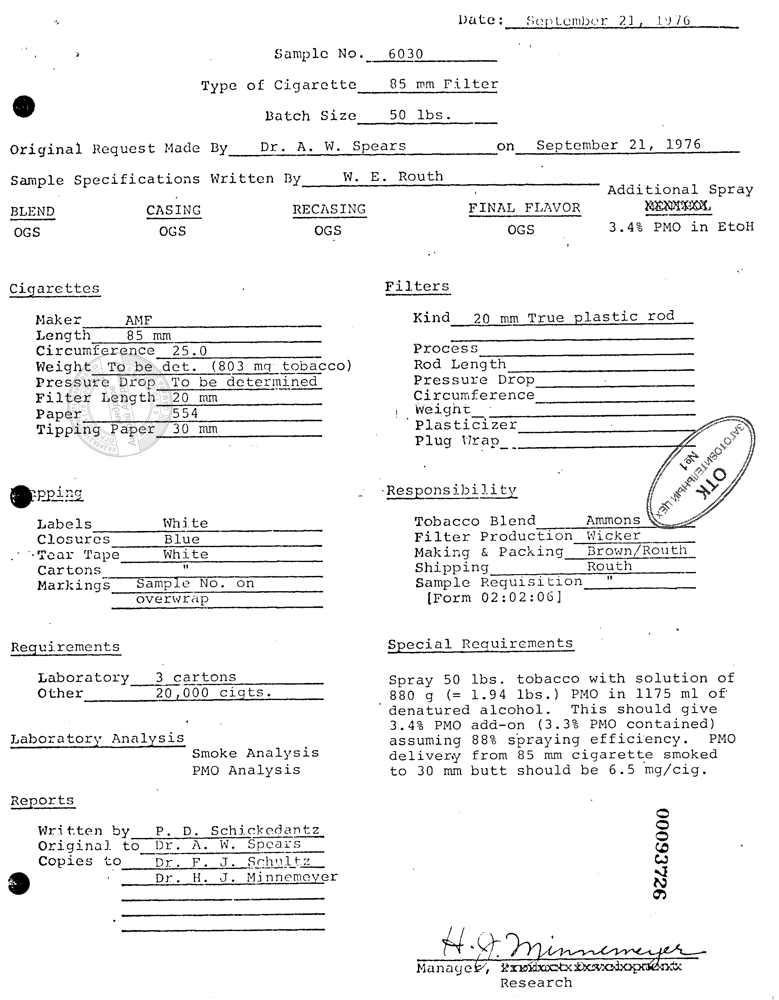circle_2: (58, 343, 182, 466)
oval_1: (627, 397, 775, 548)
